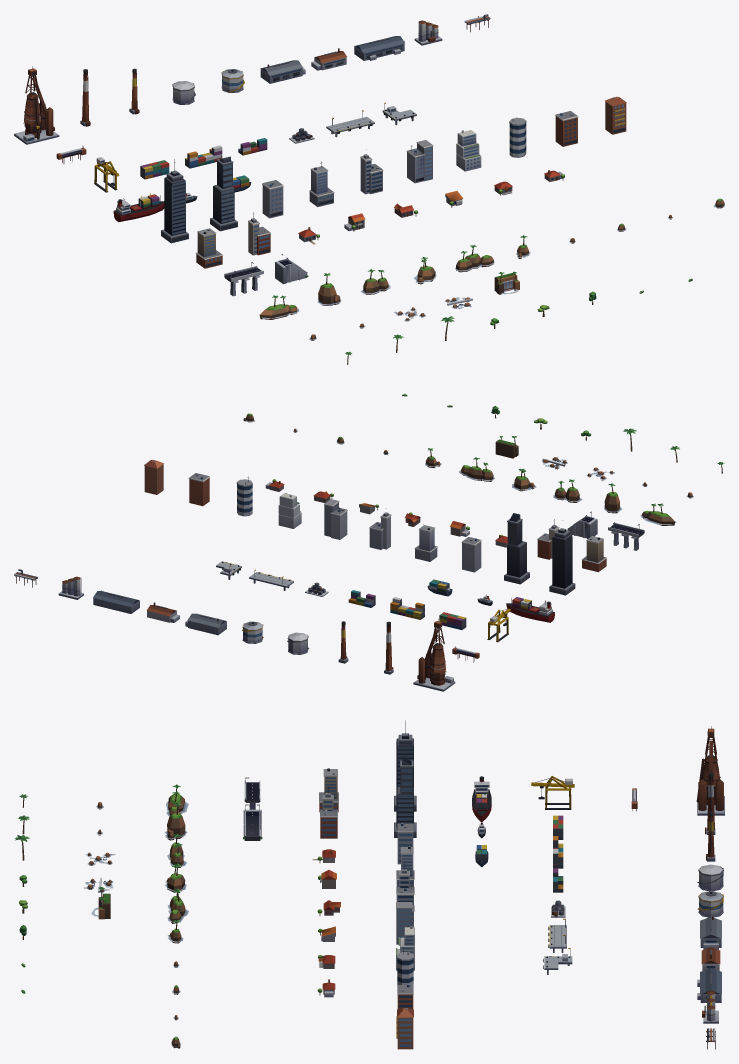
The model's file is ordaz_kit.glb.
3 renders of one model, top to bottom at view 1: azimuth 30°, elevation 25°; view 2: azimuth 150°, elevation 25°; view 3: azimuth 270°, elevation 25°, orthographic. The views are drawn at different scales.
Parts seen in each view (by area): view 1: alto_horno, torre_oscura_a, torre_oscura_b, edif_gris_04, buque_carga, edif_gris_05, nave_c, edif_terracota_03, edif_gris_02, edif_gris_01, edif_terracota_02, edif_gris_03 (+6 smaller); view 2: alto_horno, torre_oscura_a, torre_oscura_b, edif_gris_04, buque_carga, nave_c, edif_gris_05, edif_terracota_03, edif_gris_03, edif_gris_01, edif_gris_02, edif_terracota_02 (+6 smaller); view 3: alto_horno, torre_oscura_b, edif_terracota_04, edif_terracota_02, torre_oscura_a, buque_carga, nave_c, nave_a, grua_muelle, tanque_blanco_a, puente_ordaz_pila, tanque_blanco_b (+3 smaller).
Part boxes in pixels (<box>): alto_horno: <box>14,66,59,144</box>; torre_oscura_a: <box>161,159,188,243</box>; torre_oscura_b: <box>210,155,237,231</box>; edif_gris_04: <box>406,140,433,183</box>; buque_carga: <box>113,193,164,222</box>; edif_gris_05: <box>456,130,481,171</box>; nave_c: <box>354,36,404,60</box>; edif_terracota_03: <box>195,228,222,268</box>; edif_gris_02: <box>309,161,334,206</box>; edif_gris_01: <box>262,180,283,218</box>; edif_terracota_02: <box>605,96,626,134</box>; edif_gris_03: <box>360,149,383,194</box>; alto_horno: <box>413,619,455,691</box>; torre_oscura_a: <box>549,528,575,595</box>; torre_oscura_b: <box>504,513,529,584</box>; edif_gris_04: <box>324,499,347,539</box>; buque_carga: <box>506,597,554,622</box>; nave_c: <box>93,590,139,613</box>; edif_gris_05: <box>278,492,301,528</box>; edif_terracota_03: <box>582,536,606,572</box>; edif_gris_03: <box>369,508,391,549</box>; edif_gris_01: <box>461,537,481,572</box>; edif_gris_02: <box>414,524,437,561</box>; edif_terracota_02: <box>144,460,163,494</box>; alto_horno: <box>696,726,724,815</box>; torre_oscura_b: <box>394,754,416,837</box>; edif_terracota_04: <box>320,786,337,838</box>; edif_terracota_02: <box>396,1008,413,1049</box>; torre_oscura_a: <box>394,720,416,811</box>; buque_carga: <box>472,776,491,822</box>; nave_c: <box>697,968,721,1002</box>; nave_a: <box>700,916,721,949</box>; grua_muelle: <box>531,776,574,809</box>; tanque_blanco_a: <box>697,864,723,891</box>; puente_ordaz_pila: <box>243,804,262,840</box>; tanque_blanco_b: <box>697,891,723,917</box>.
Bounding box in the file's own units: 349 × 58 × 409.
